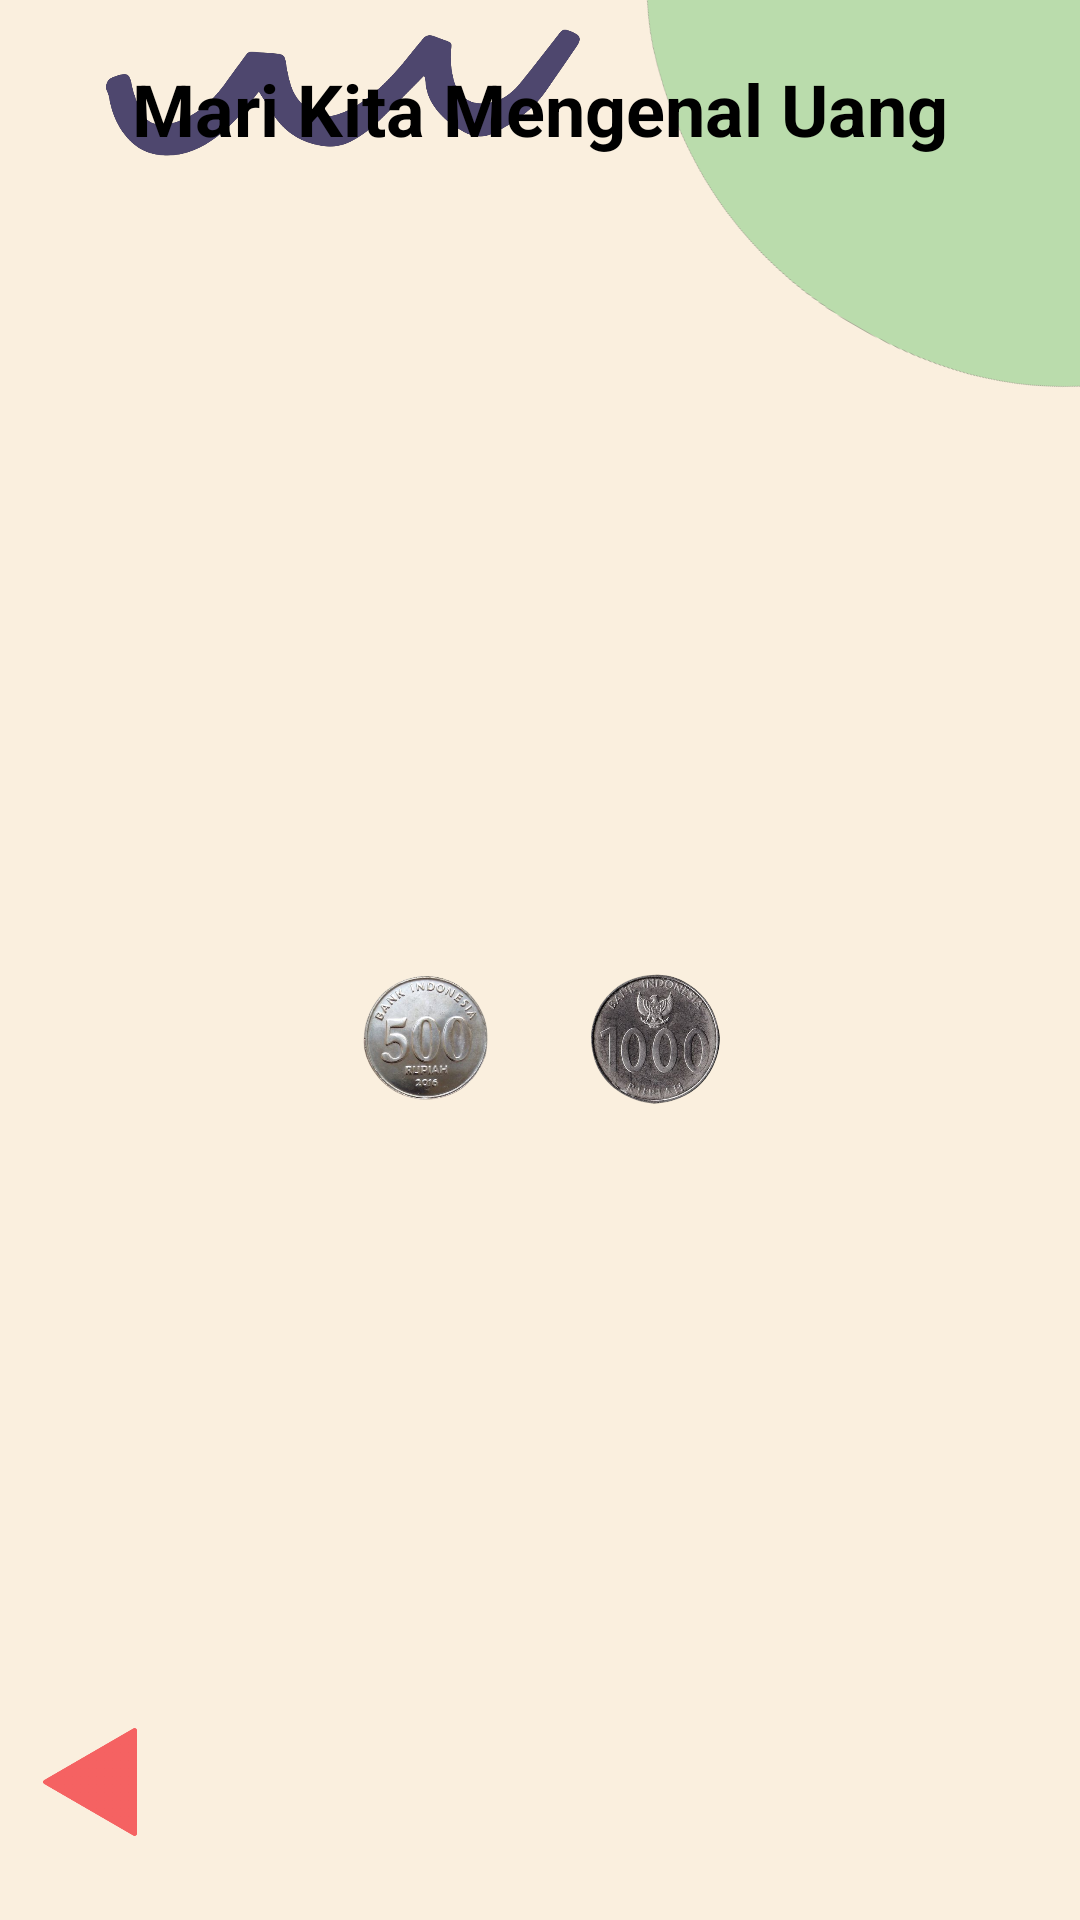

Where to tap for icons on this 1080 x 1920 app screen, as (x,y):
leftarrow: (90,1782)
